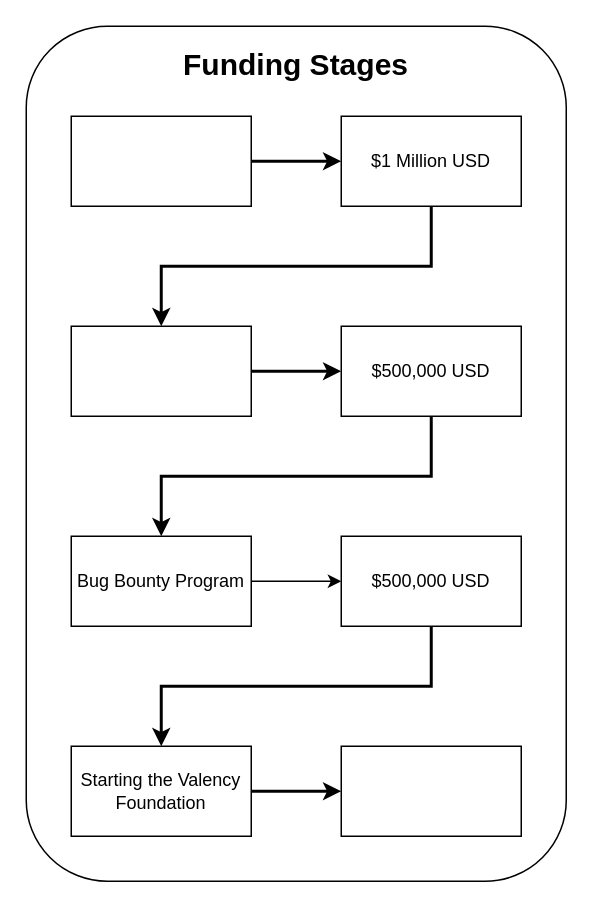
Image size: 593x908. Some labels were removed from this diagram. Here are the shapes that lost their labels. From the top down, the centre of each, then its label:
At (160,160): "Allow Core Developers to Develop Full Time".
At (160,370): "Security Research + Internal and External Audits".
At (430,790): "Rest of Funding".
